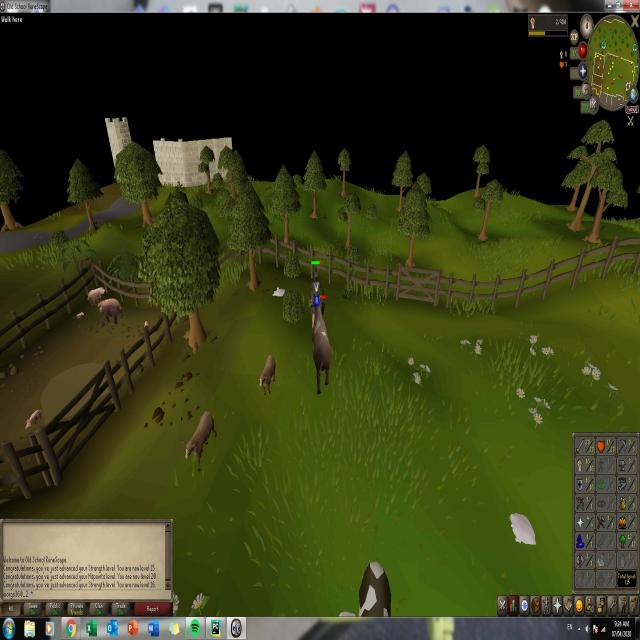cow: (308, 293, 334, 397), (353, 556, 395, 615)
